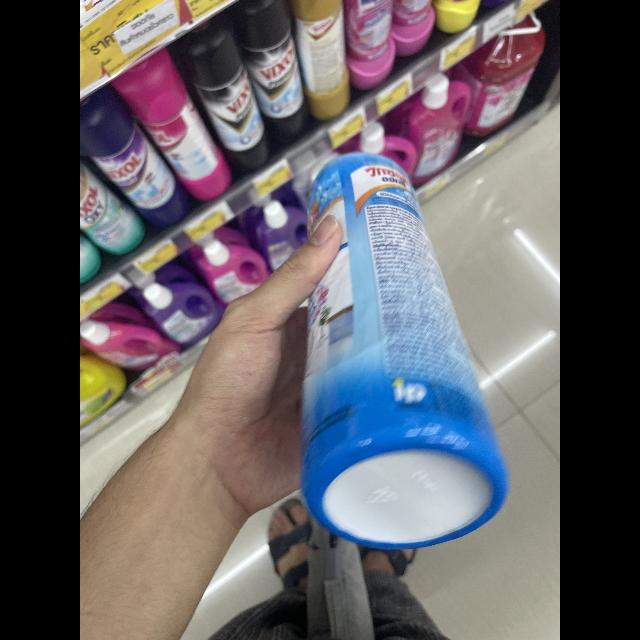chemical_plastic_bottle: (286, 154, 509, 550)
